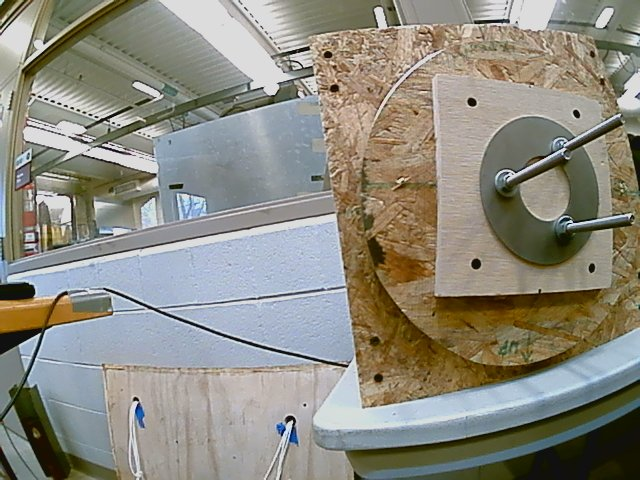bolt: (559, 145, 571, 163), (626, 210, 636, 228), (616, 113, 628, 127)
